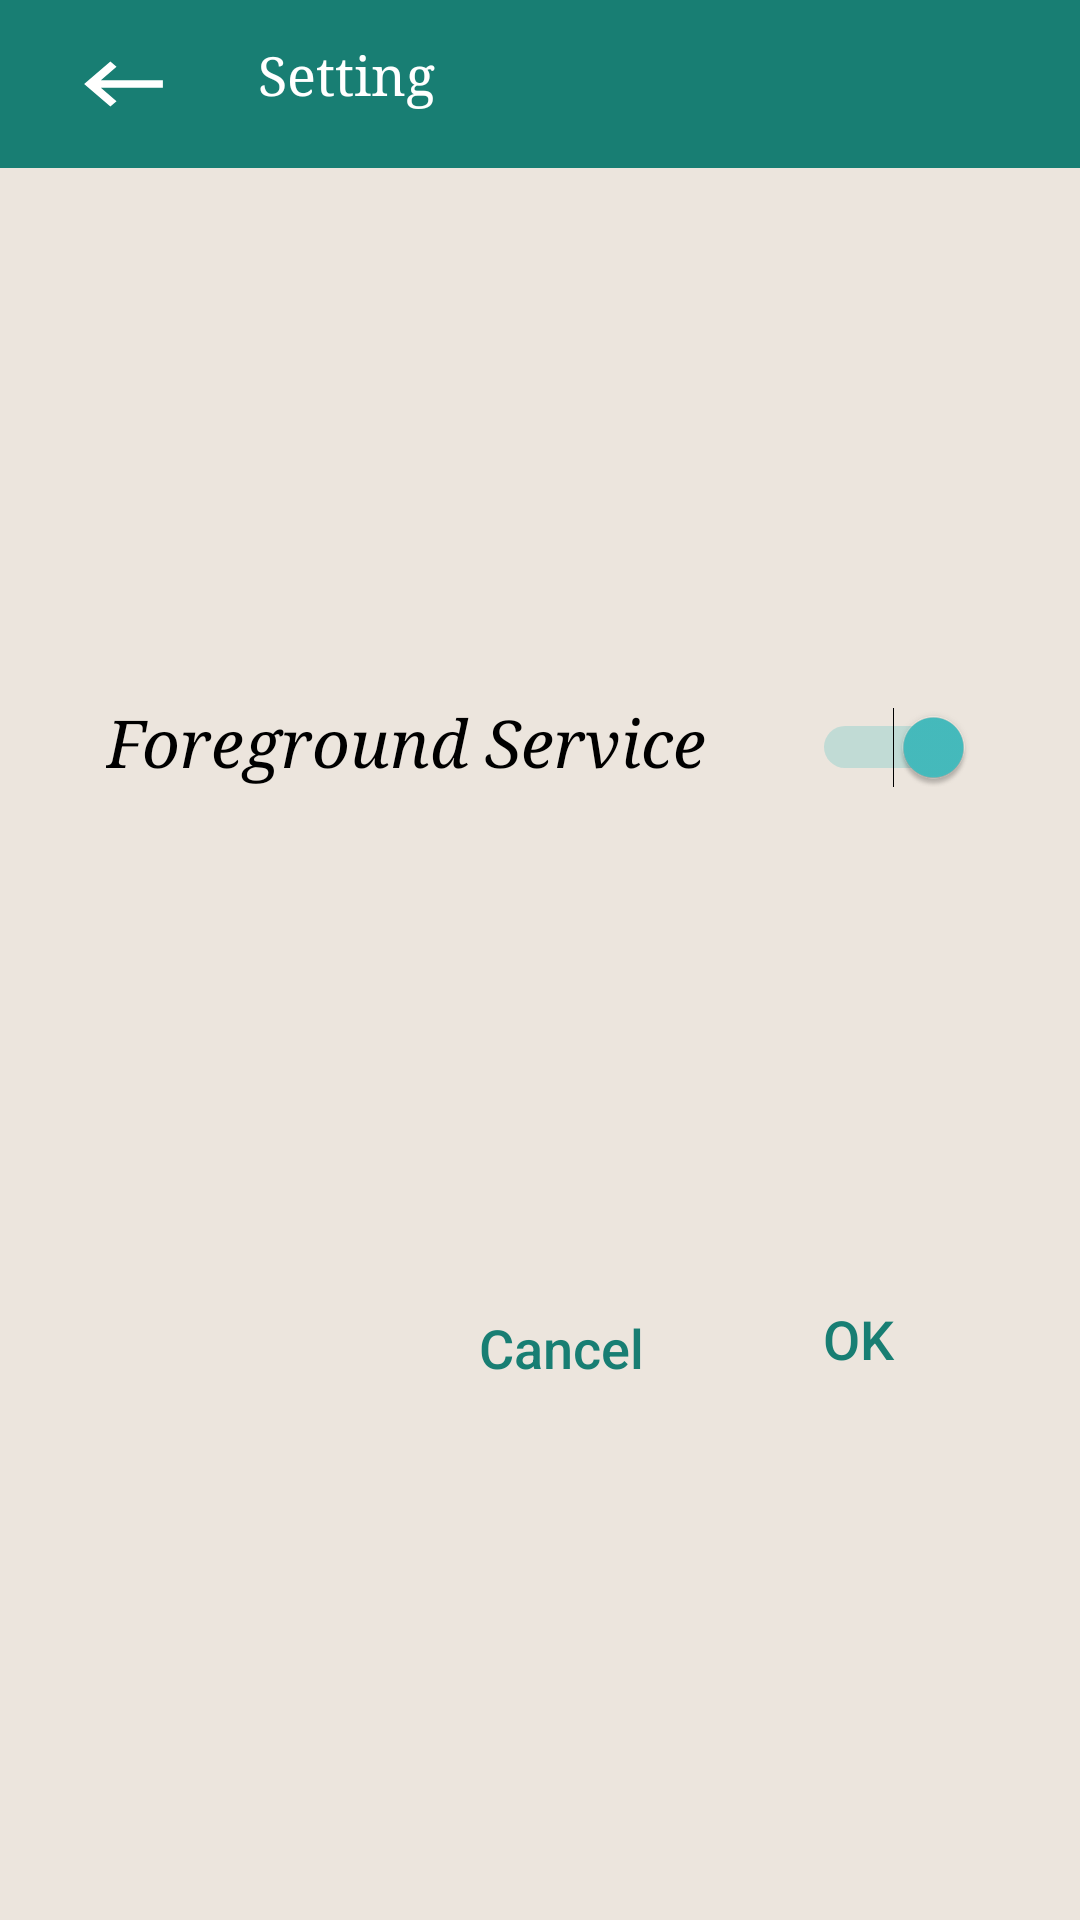

Icons on this 1080px×1920px Android screen, each with its box as (x1, y1, x2, y2):
back arrow: (84, 61, 163, 107)
